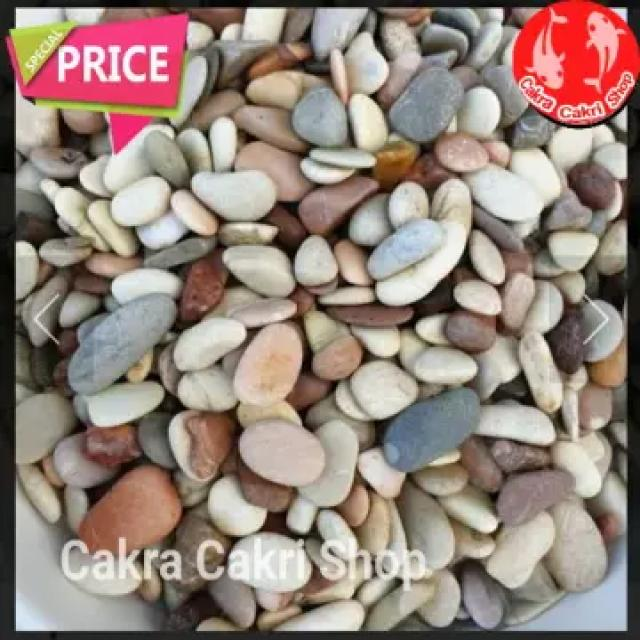Pecahan Agregat: (55, 112, 611, 607)
